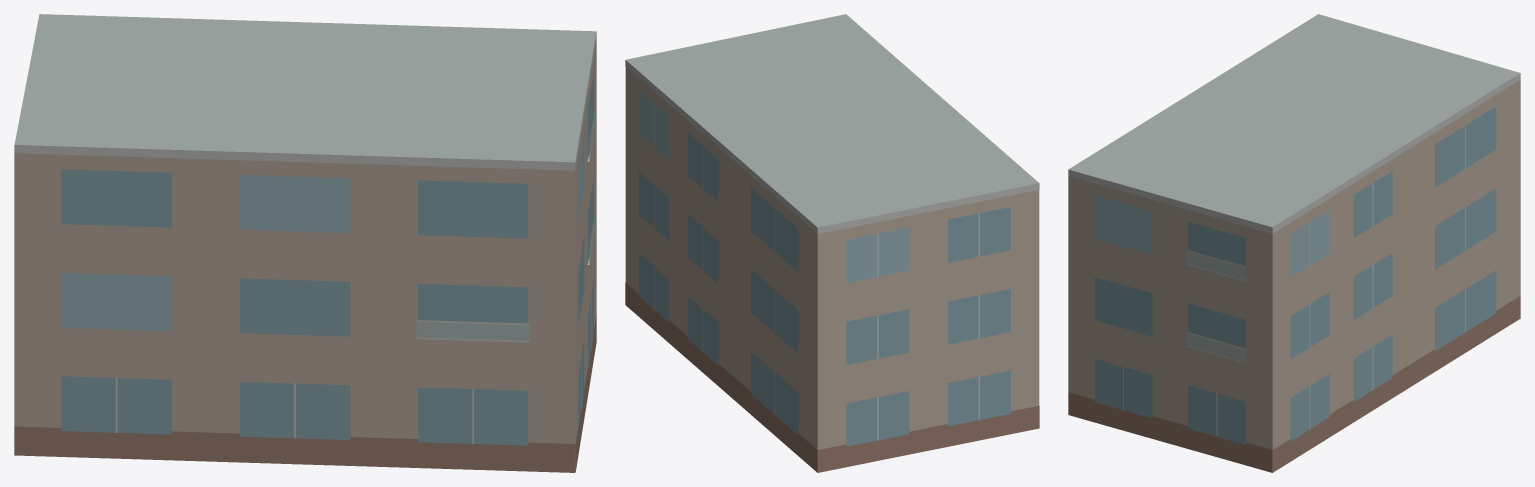
File: survey-upis-32706674.glb
3 views of the same model, side by side, from view 1: azimuth 30°, elevation 25°; view 2: azimuth 150°, elevation 25°; view 3: azimuth 270°, elevation 25° (orthographic). The views are drawn at different scales.
Visible parts, largest first — view 1: survey-upis-32706674.tmp; view 2: survey-upis-32706674.tmp; view 3: survey-upis-32706674.tmp.
Boxes of the visible parts, x1,y1,x2,y2 form: survey-upis-32706674.tmp: [14, 14, 596, 472]; survey-upis-32706674.tmp: [625, 14, 1039, 472]; survey-upis-32706674.tmp: [1068, 14, 1520, 472].
Size of the model in its own units: 17.06 by 9.15 by 15.29.
